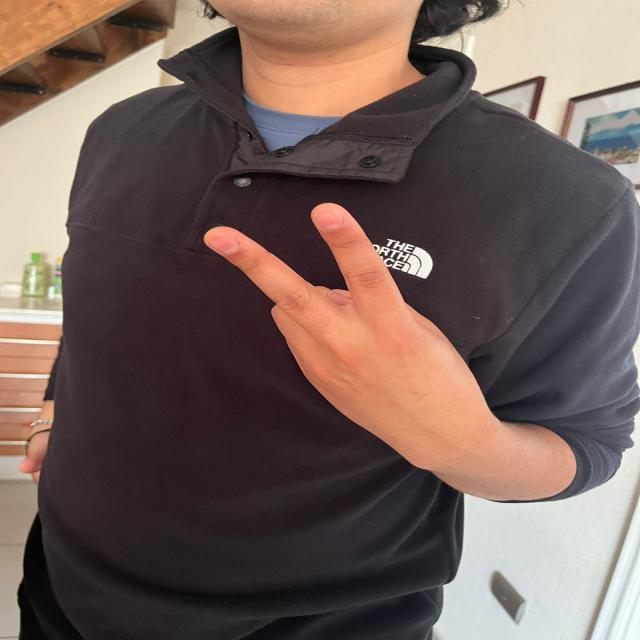V: (201, 191, 491, 457)
